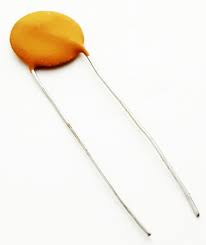ceramic capacitor: (1, 6, 113, 104)
